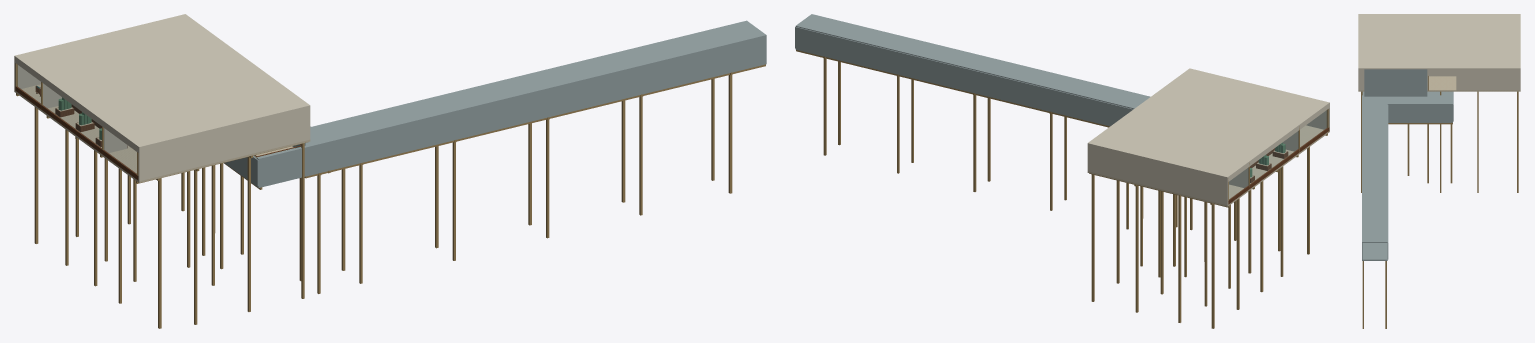
The model's file is D04_PORT_AFT_CO_r001.glb.
The picture shows the model from 3 angles, left to right: view 1: azimuth 30°, elevation 25°; view 2: azimuth 150°, elevation 25°; view 3: azimuth 270°, elevation 25°; orthographic projection. The views are drawn at different scales.
Parts seen in each view (by area): view 1: PACO_D04SC_CommonsRoof, PACO_D04SC_LowerServiceWall_7, PACO_D04SC_LowerStaffCeiling, PACO_D04SC_SouthWall, PACO_D04SC_EastGlass, PACO_D04SC_CommonsFloor, PACO_D04SC_StaffLowerBridgeFloor, PACO_D04SC_LowerServiceWall_5, PACO_D04SC_LowerBridgeLong_-383.15, PACO_D04SC_EastDado, PACO_D04SC_KeelPier_18, PACO_D04SC_EastHead (+9 smaller); view 2: PACO_D04SC_CommonsRoof, PACO_D04SC_LowerServiceWall_1, PACO_D04SC_LowerStaffCeiling, PACO_D04SC_NorthWall, PACO_D04SC_EastGlass, PACO_D04SC_CommonsFloor, PACO_D04SC_LowerBridgeLong_-379.25, PACO_D04SC_StaffLowerBridgeFloor, PACO_D04SC_EastDado, PACO_D04SC_KeelPier_03, PACO_D04SC_KeelPier_08, PACO_D04SC_KeelPier_13 (+10 smaller); view 3: PACO_D04SC_CommonsRoof, PACO_D04SC_LowerStaffCeiling, PACO_D04SC_StairWestScreen, PACO_D04SC_WestEntryNorth, PACO_D04SC_LowerServiceWall_2, PACO_D04SC_StaffLowerBridgeFloor, PACO_D04SC_CommonsFloor, PACO_D04SC_LowerServiceWall_1, PACO_D04SC_PublicPortalHead, PACO_D04SC_KeelPier_02, PACO_D04SC_KeelPier_03, PACO_D04SC_KeelPier_32 (+5 smaller).
Boxes of the visible parts, x1,y1,x2,y2 form: PACO_D04SC_CommonsRoof: (14,14,310,148); PACO_D04SC_LowerServiceWall_7: (331,36,766,168); PACO_D04SC_LowerStaffCeiling: (257,20,766,159); PACO_D04SC_SouthWall: (138,107,310,181); PACO_D04SC_EastGlass: (17,65,136,173); PACO_D04SC_CommonsFloor: (14,84,310,183); PACO_D04SC_StaffLowerBridgeFloor: (224,62,766,187); PACO_D04SC_LowerServiceWall_5: (258,148,305,185); PACO_D04SC_LowerBridgeLong_-383.15: (304,64,765,178); PACO_D04SC_EastDado: (15,86,138,180); PACO_D04SC_KeelPier_18: (34,107,38,243); PACO_D04SC_EastHead: (15,58,138,152); PACO_D04SC_CommonsRoof: (1087,68,1329,178); PACO_D04SC_LowerServiceWall_1: (795,27,1133,125); PACO_D04SC_LowerStaffCeiling: (795,14,1150,109); PACO_D04SC_NorthWall: (1087,145,1228,205); PACO_D04SC_EastGlass: (1229,110,1326,199); PACO_D04SC_CommonsFloor: (1087,125,1329,206); PACO_D04SC_LowerBridgeLong_-379.25: (796,50,1109,127); PACO_D04SC_StaffLowerBridgeFloor: (795,48,1110,126); PACO_D04SC_EastDado: (1228,127,1329,204); PACO_D04SC_KeelPier_03: (1091,174,1094,301); PACO_D04SC_KeelPier_08: (1135,185,1138,312); PACO_D04SC_KeelPier_13: (1178,196,1181,322); PACO_D04SC_CommonsRoof: (1358,14,1520,69); PACO_D04SC_LowerStaffCeiling: (1362,91,1452,242); PACO_D04SC_StairWestScreen: (1364,69,1427,96); PACO_D04SC_WestEntryNorth: (1456,69,1520,90); PACO_D04SC_LowerServiceWall_2: (1388,104,1452,121); PACO_D04SC_StaffLowerBridgeFloor: (1362,121,1452,260); PACO_D04SC_CommonsFloor: (1358,76,1520,91); PACO_D04SC_LowerServiceWall_1: (1387,105,1388,259); PACO_D04SC_PublicPortalHead: (1429,69,1456,76); PACO_D04SC_KeelPier_02: (1477,93,1478,192); PACO_D04SC_KeelPier_03: (1517,93,1518,192); PACO_D04SC_KeelPier_32: (1450,124,1452,183).
Bounding box in the file's own units: 81 × 24.03 × 27.8.
87 materials, 82 textured.
